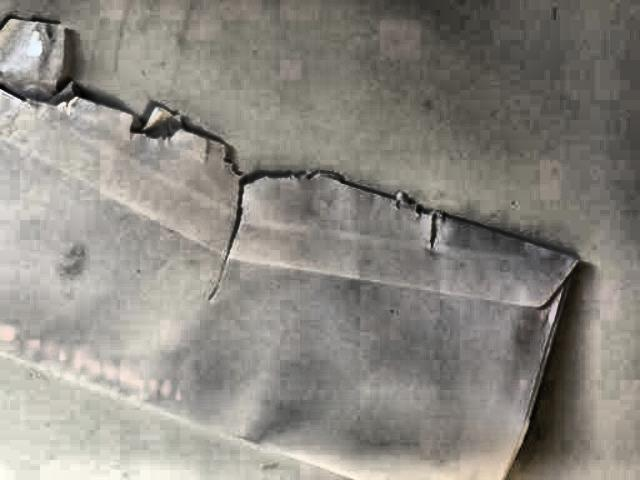Paper: (0, 16, 577, 480)
